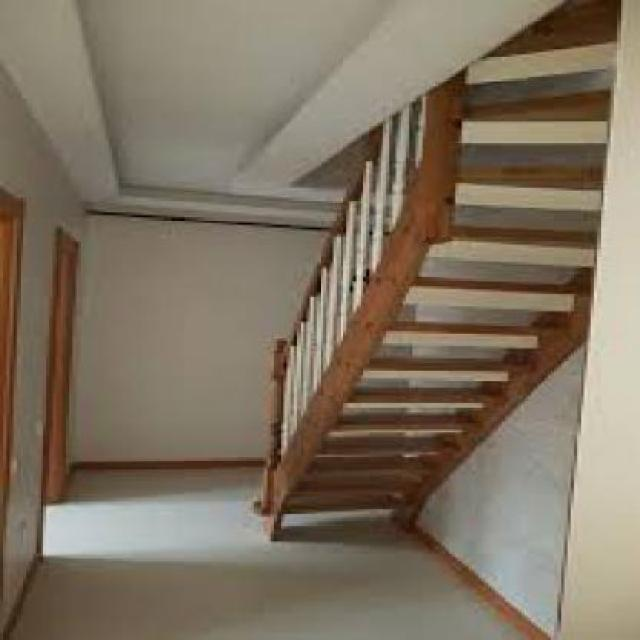stair: (212, 12, 632, 530)
